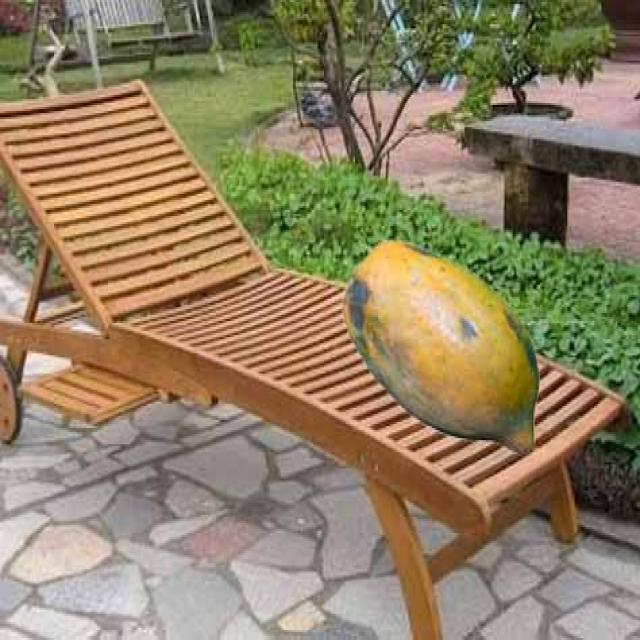Pepaya rippen: (344, 238, 543, 474)
